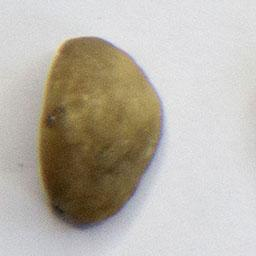defect: (33, 30, 169, 233)
